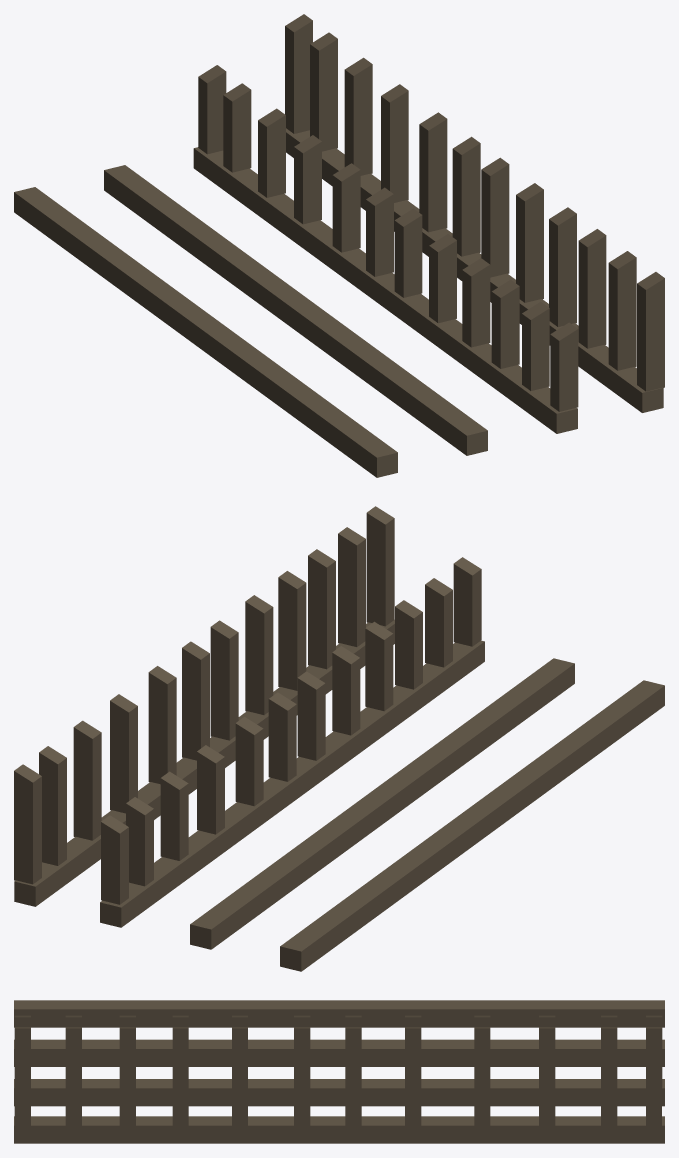
The model's file is Rafters.fbx.
The picture shows the model from 3 angles, top to bottom: view 1: azimuth 30°, elevation 25°; view 2: azimuth 150°, elevation 25°; view 3: azimuth 270°, elevation 25°; orthographic projection. The views are drawn at different scales.
Parts seen in each view (by area): view 1: Rafters; view 2: Rafters; view 3: Rafters.
Boxes of the visible parts, left/top/right/bottom form: Rafters: left=14, top=14, right=664, bottom=477; Rafters: left=14, top=506, right=664, bottom=971; Rafters: left=14, top=1000, right=664, bottom=1143.
Size of the model in its own units: 5.13 by 2.19 by 11.18.
